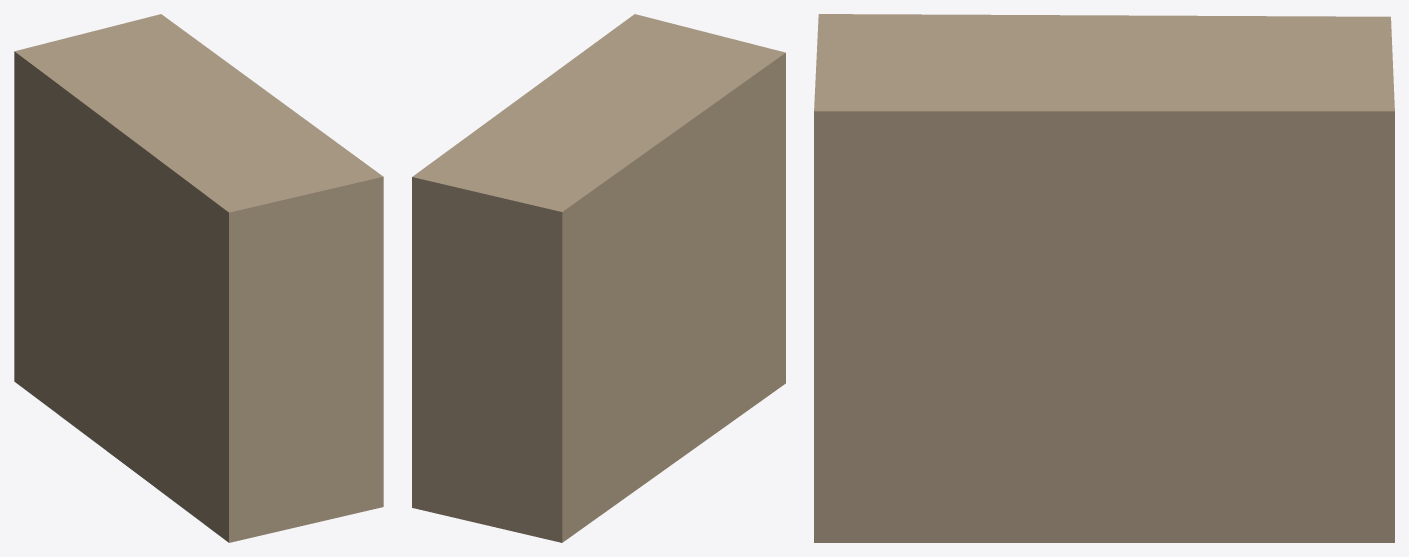
The model's file is bld_98768050.dae.
The picture shows the model from 3 angles, left to right: view 1: azimuth 30°, elevation 25°; view 2: azimuth 150°, elevation 25°; view 3: azimuth 270°, elevation 25°; orthographic projection. The views are drawn at different scales.
Visible parts, largest first — view 1: Maldon Coffee Company; view 2: Maldon Coffee Company; view 3: Maldon Coffee Company.
Part boxes in pixels (left/top/right/bottom): Maldon Coffee Company: left=14, top=14, right=383, bottom=542; Maldon Coffee Company: left=412, top=14, right=785, bottom=542; Maldon Coffee Company: left=814, top=14, right=1394, bottom=542.
Bounding box in the file's own units: 3.87 × 9.76 × 8.
